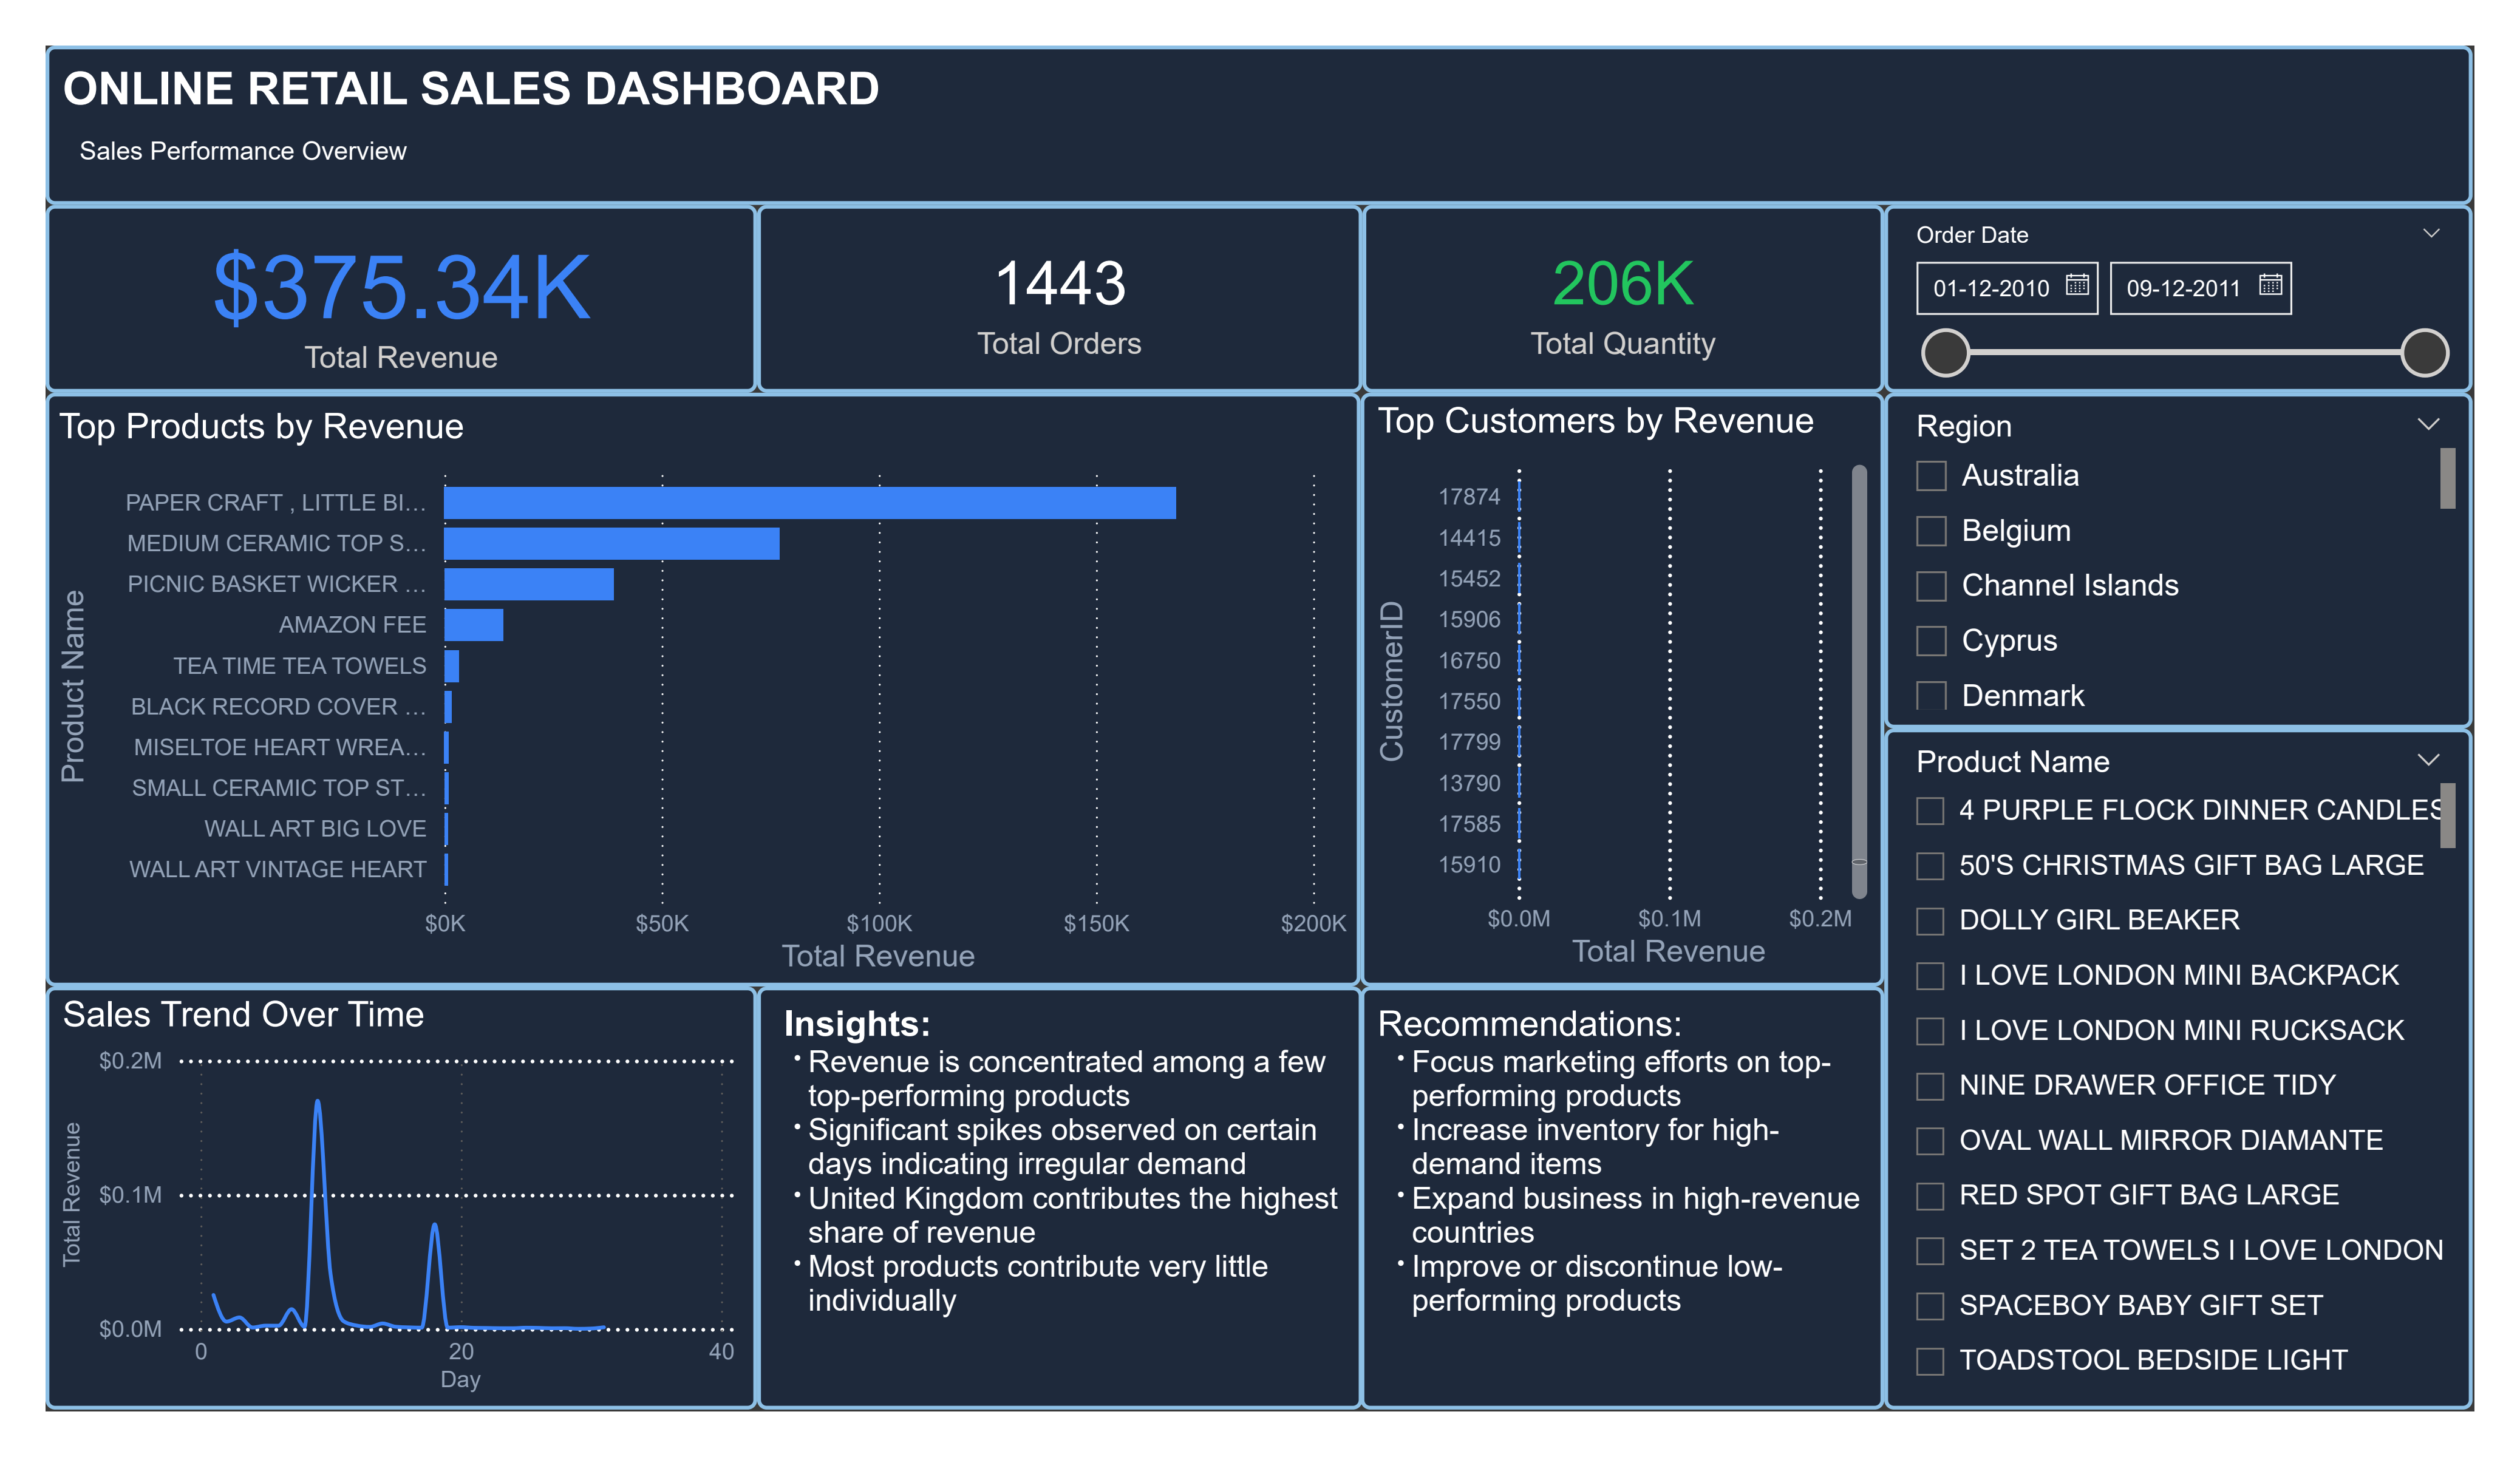

The page's visual inventory and layout, read from the dashboard file:
{"tool":"powerbi","page":{"name":"Page 1","canvas":[1280,720],"ordinal":0},"visuals":[{"type":"card","fields":{"Values":["online_retail.Total Revenue"]},"box":[0,84.3,375.2,99.2],"z":0},{"type":"card","fields":{"Values":["online_retail.Total Orders"]},"box":[375.2,84.3,319,99.2],"z":1000},{"type":"card","fields":{"Values":["online_retail.Total Quantity"]},"box":[694.2,84.3,274.4,99.2],"z":2000},{"type":"lineChart","title":"Sales Trend Over Time","fields":{"Y":["online_retail.Total Revenue"],"Category":["online_retail.Order Date.Variation.Date Hierarchy.Day"]},"box":[0,495.9,375.2,223.2],"z":3000},{"type":"clusteredBarChart","title":"Top Products by Revenue","fields":{"Category":["online_retail.Product Name"],"Y":["online_retail.Total Revenue"]},"box":[0,183.5,692.6,312.4],"z":4000},{"type":"clusteredBarChart","title":"Top Customers by Revenue","fields":{"Y":["online_retail.Total Revenue"],"Category":["online_retail.CustomerID"]},"box":[692.6,183.5,276,312.4],"z":5000},{"type":"slicer","fields":{"Values":["online_retail.Order Date"]},"box":[968.6,84.3,310.8,99.2],"z":6000},{"type":"slicer","fields":{"Values":["online_retail.Product Name"]},"box":[968.6,360.3,310.8,358.7],"z":7000},{"type":"textbox","box":[0,0,1279.4,84.3],"z":8000},{"type":"textbox","box":[375.2,495.9,319,223.2],"z":9000},{"type":"textbox","box":[692.6,495.9,276,223.2],"z":10000},{"type":"slicer","fields":{"Values":["online_retail.Region"]},"box":[968.6,183.5,310.8,176.9],"z":12000},{"type":"textbox","box":[13.2,43,1251.3,29.8],"z":13000}]}

Visuals, with their boxes in screenshot pixels (x1, y1, x2, y2):
card - online_retail.Total Revenue: box=[59, 204, 761, 390]
card - online_retail.Total Orders: box=[761, 204, 1359, 390]
card - online_retail.Total Quantity: box=[1359, 204, 1873, 390]
"Sales Trend Over Time" lineChart: box=[59, 974, 761, 1392]
"Top Products by Revenue" clusteredBarChart: box=[59, 390, 1356, 974]
"Top Customers by Revenue" clusteredBarChart: box=[1356, 390, 1873, 974]
slicer - online_retail.Order Date: box=[1873, 204, 2455, 390]
slicer - online_retail.Product Name: box=[1873, 721, 2455, 1392]
textbox: box=[59, 46, 2455, 204]
textbox: box=[761, 974, 1359, 1392]
textbox: box=[1356, 974, 1873, 1392]
slicer - online_retail.Region: box=[1873, 390, 2455, 721]
textbox: box=[84, 126, 2427, 182]
